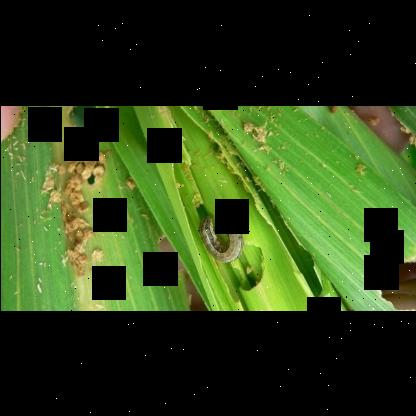agujero: (378, 245, 416, 311), (233, 241, 262, 291), (154, 235, 184, 273)
oruga: (196, 199, 244, 267)
